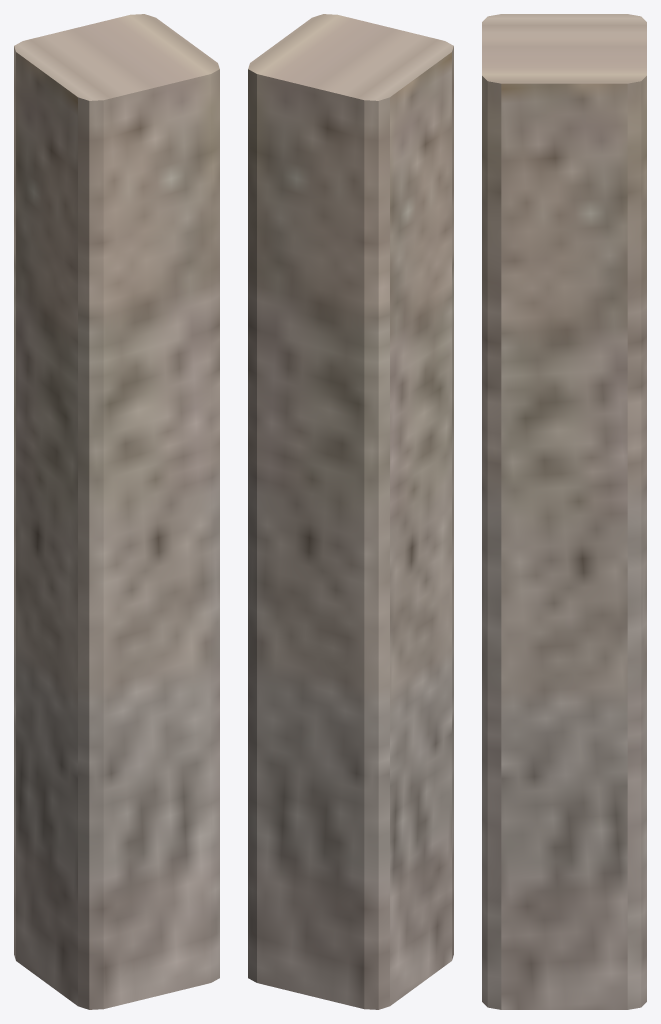
File: column_Rod.glb
The picture shows the model from 3 angles, left to right: view 1: azimuth 30°, elevation 25°; view 2: azimuth 150°, elevation 25°; view 3: azimuth 270°, elevation 25°; orthographic projection.
Visible parts, largest first — view 1: column_Rod; view 2: column_Rod; view 3: column_Rod.
Part boxes in pixels (x1=…): column_Rod: x1=14, y1=14, x2=219, y2=1009; column_Rod: x1=248, y1=14, x2=453, y2=1009; column_Rod: x1=482, y1=14, x2=646, y2=1009.
Bounding box in the file's own units: 1.5 × 9.3 × 1.5.
Materials: 1 (1 with a texture image).
